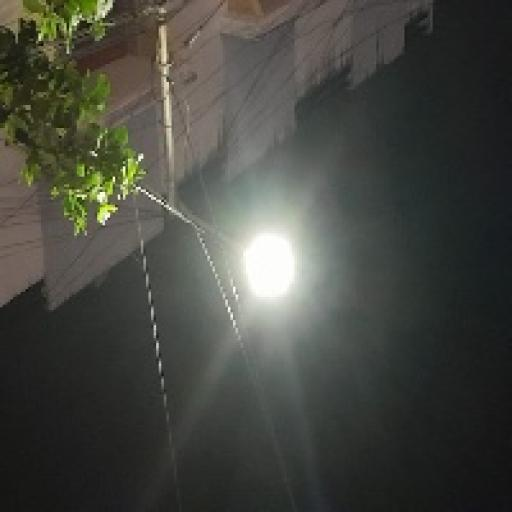Working: (212, 216, 310, 309)
